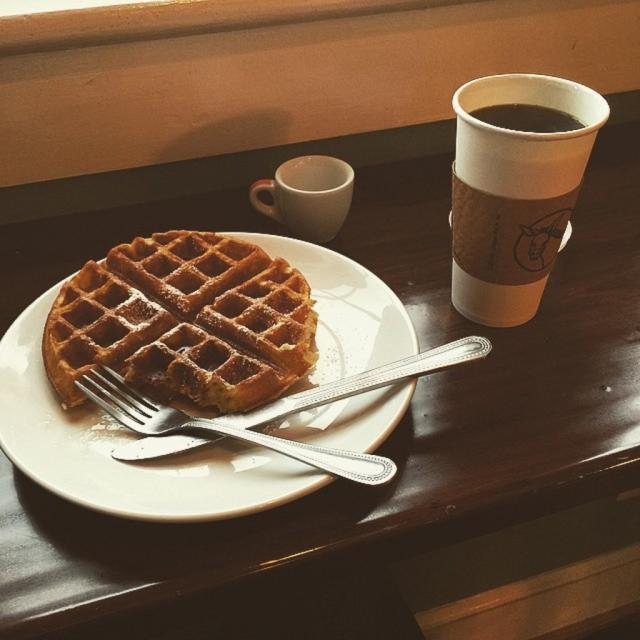Coffee: (467, 100, 586, 134)
